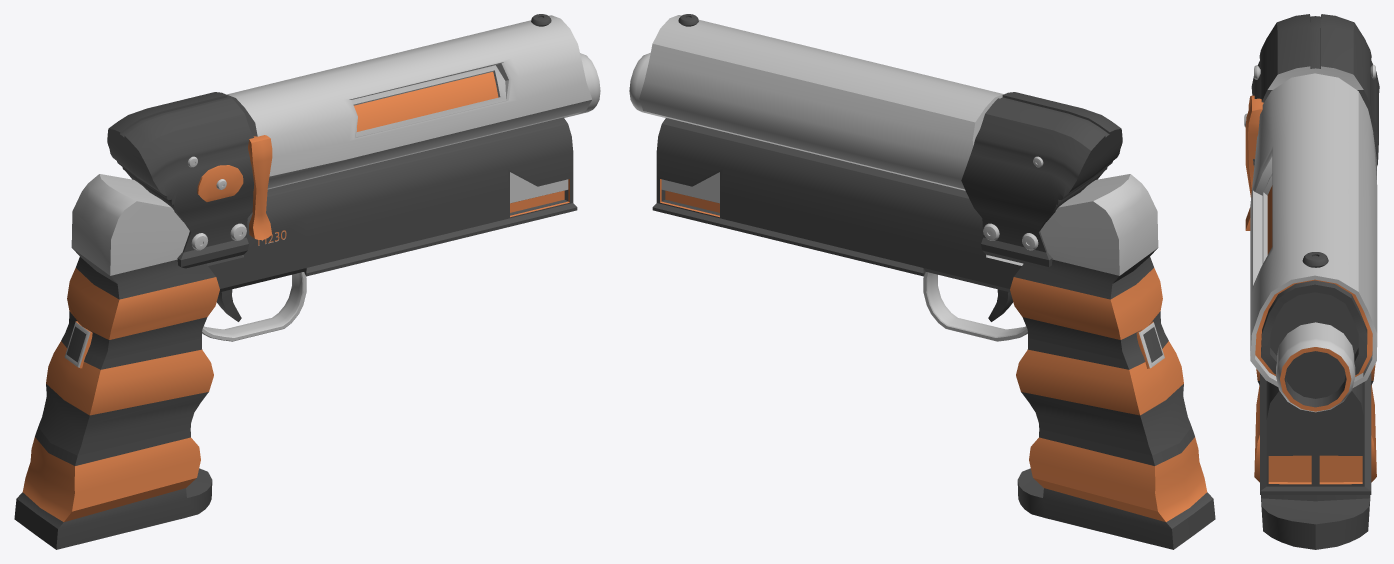
File: solid_m230_pistol.glb
3 renders of one model, left to right at view 1: azimuth 30°, elevation 25°; view 2: azimuth 150°, elevation 25°; view 3: azimuth 270°, elevation 25°, orthographic. The views are drawn at different scales.
Visible parts, largest first — view 1: Solid_Color_M230; view 2: Solid_Color_M230; view 3: Solid_Color_M230.
Part boxes in pixels (<box>): Solid_Color_M230: <box>14,14,600,549</box>; Solid_Color_M230: <box>629,14,1215,549</box>; Solid_Color_M230: <box>1244,14,1379,549</box>.
Size of the model in its own units: 0.6363 by 0.4346 by 0.106.
